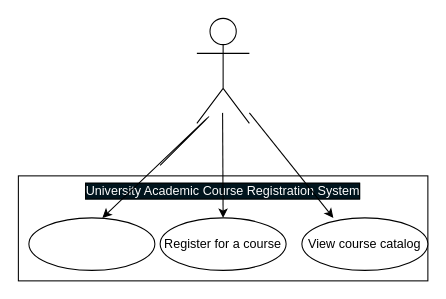
Image size: 446x299. Some labels were removed from this diagram. Each missing label, with the centre of its shape:
Drop a course: point (91, 243)
Students: point (222, 70)
